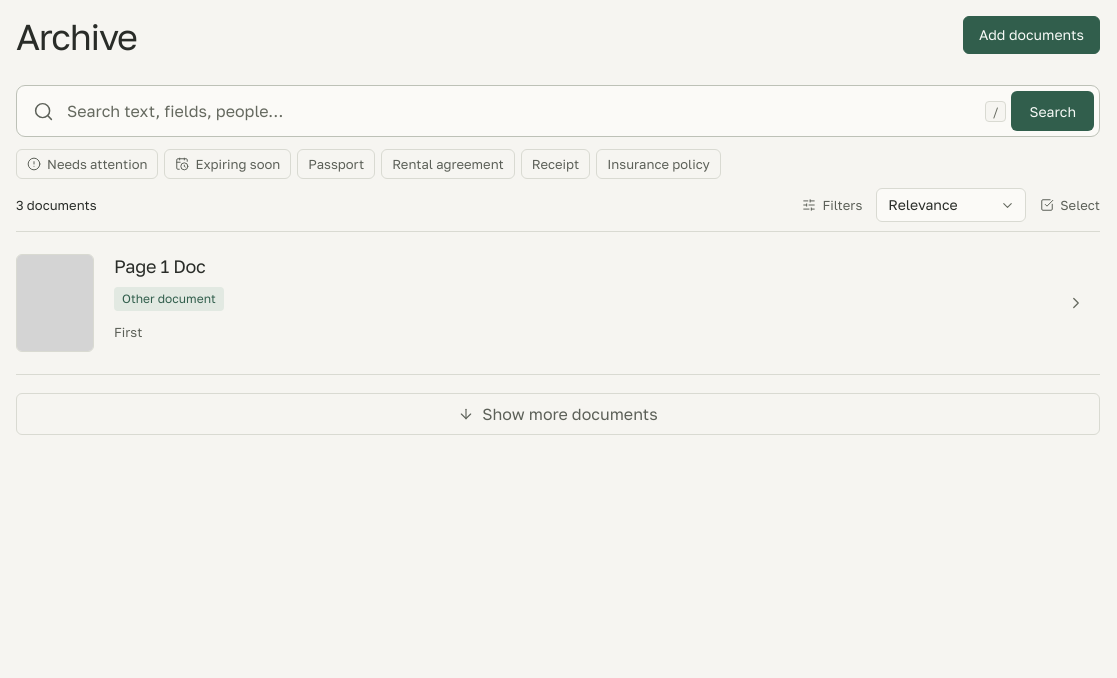
Test: ArchivePage load more › continues to show the load-more button when a subsequent page provides another cursor
The image size is (1117, 678).
Expected: the button "Select" is shown, [1040,189,1100,221]
Expected: the number of elements with class "result-row" is 1, [16,232,1100,375]
Click the button "Show more documents".
click(558, 414)  # box [16,393,1100,435]
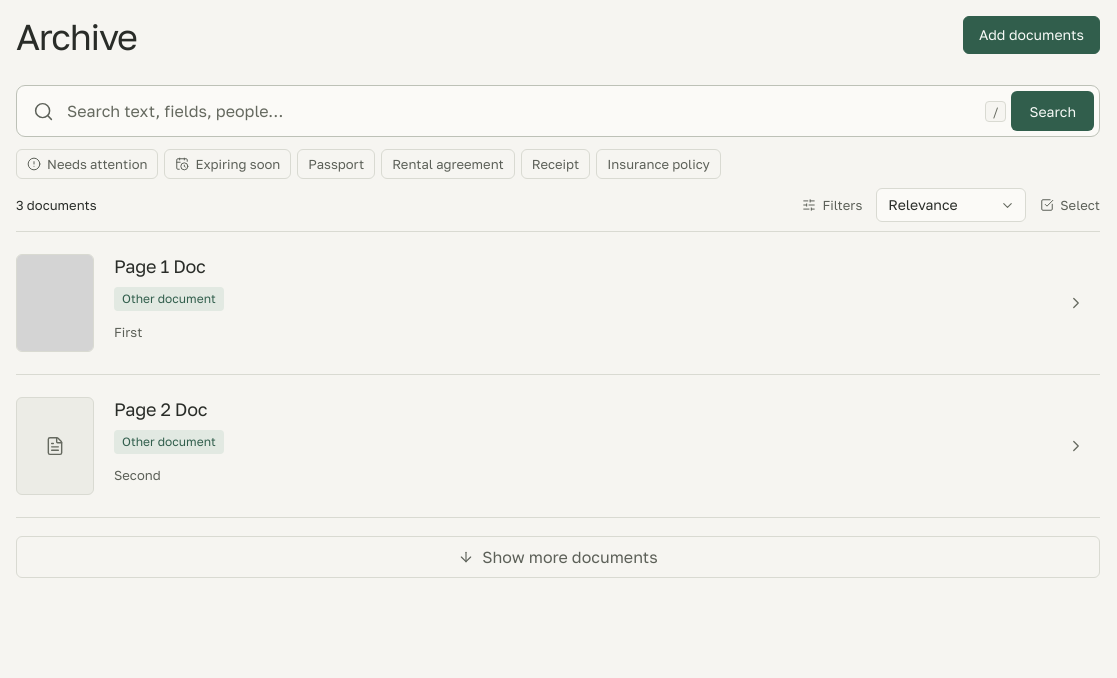
Expected: the number of elements with class "result-row" is 2, [16,232,1100,375]; [16,375,1100,518]
Click the button "Show more documents".
click(558, 557)  # box [16,536,1100,578]
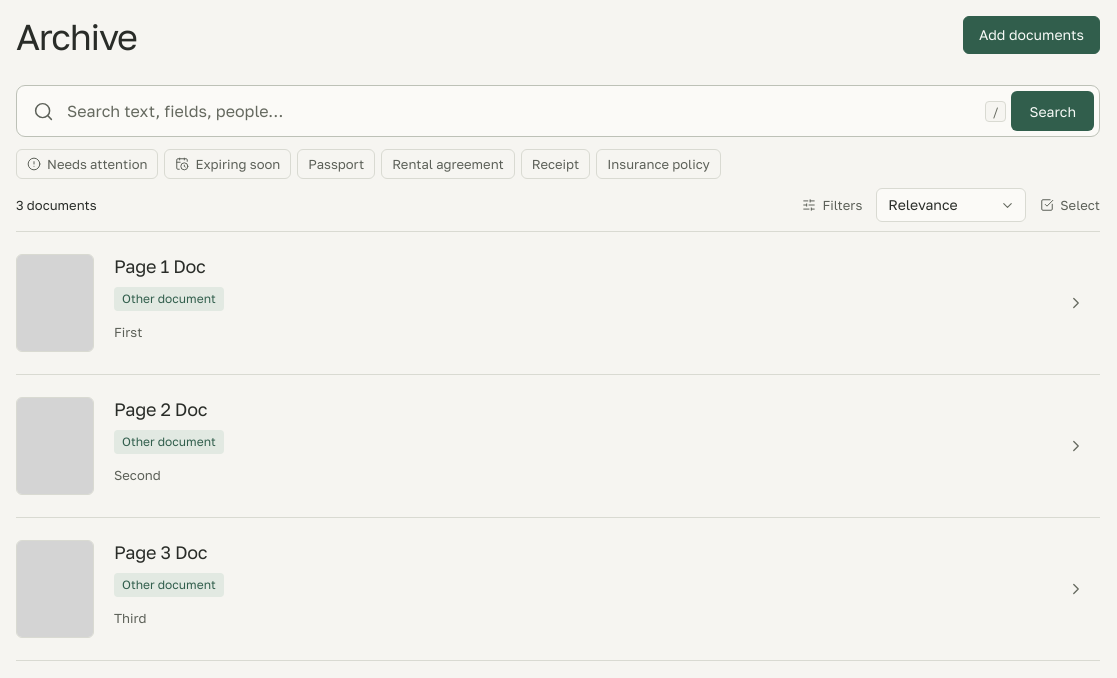
Expected: the number of elements with class "result-row" is 3, [16,232,1100,375]; [16,375,1100,518]; [16,518,1100,661]
Expected: the button with class "load-more" is gone
